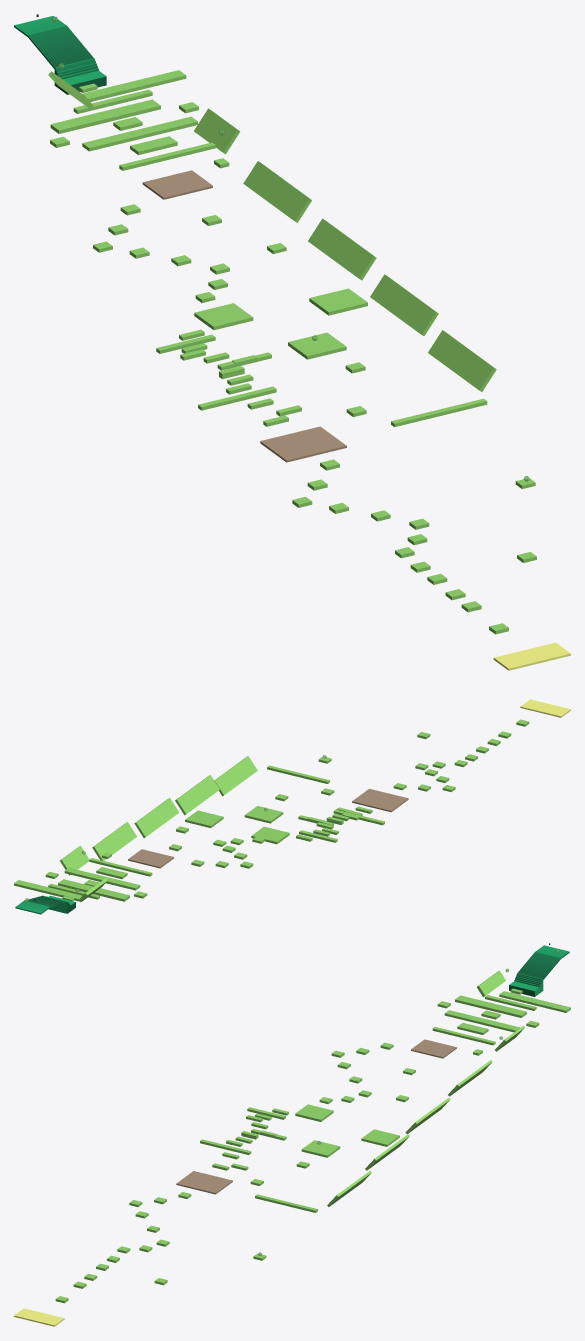
The model's file is playground.glb.
3 renders of one model, top to bottom at view 1: azimuth 30°, elevation 25°; view 2: azimuth 150°, elevation 25°; view 3: azimuth 330°, elevation 25°, orthographic. The views are drawn at different scales.
Visible parts, largest first — view 1: Platform.018 (×11), Ramp.001, Checkpoint.003 (×2), End.002; view 2: Platform.018 (×13), Checkpoint.003 (×2), Ramp.001, End.002; view 3: Platform.018 (×3), Ramp.001, Checkpoint.003.
Part boxes in pixels (x1,y1,x2,y2): Platform.018 (×11): (50,70,496,391); Ramp.001: (14,16,106,94); Checkpoint.003 (×2): (143,170,346,460); End.002: (494,642,570,668); Platform.018 (×13): (14,756,329,901); Checkpoint.003 (×2): (128,788,408,867); Ramp.001: (15,895,75,914); End.002: (520,699,570,716); Platform.018 (×3): (444,991,570,1032); Ramp.001: (509,945,569,996); Checkpoint.003: (176,1171,232,1193).
Bounding box in the file's own units: 162 × 78.81 × 660.
Materials: 7 (7 with a texture image).
